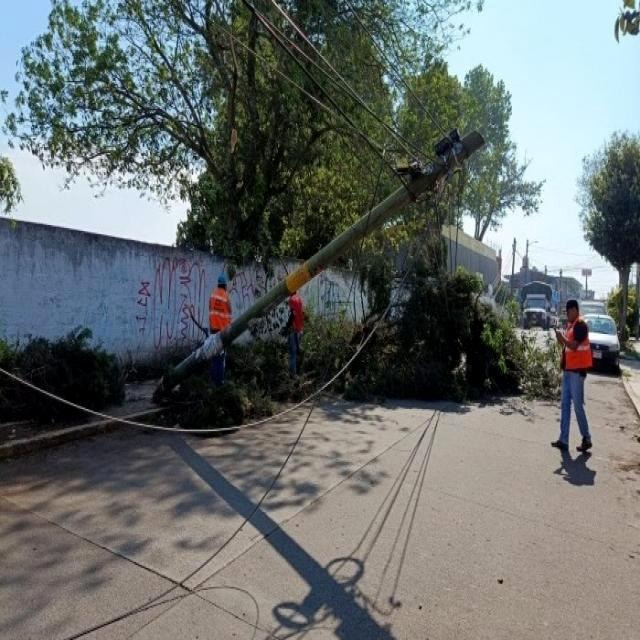Broken Pole: (154, 128, 487, 402)
